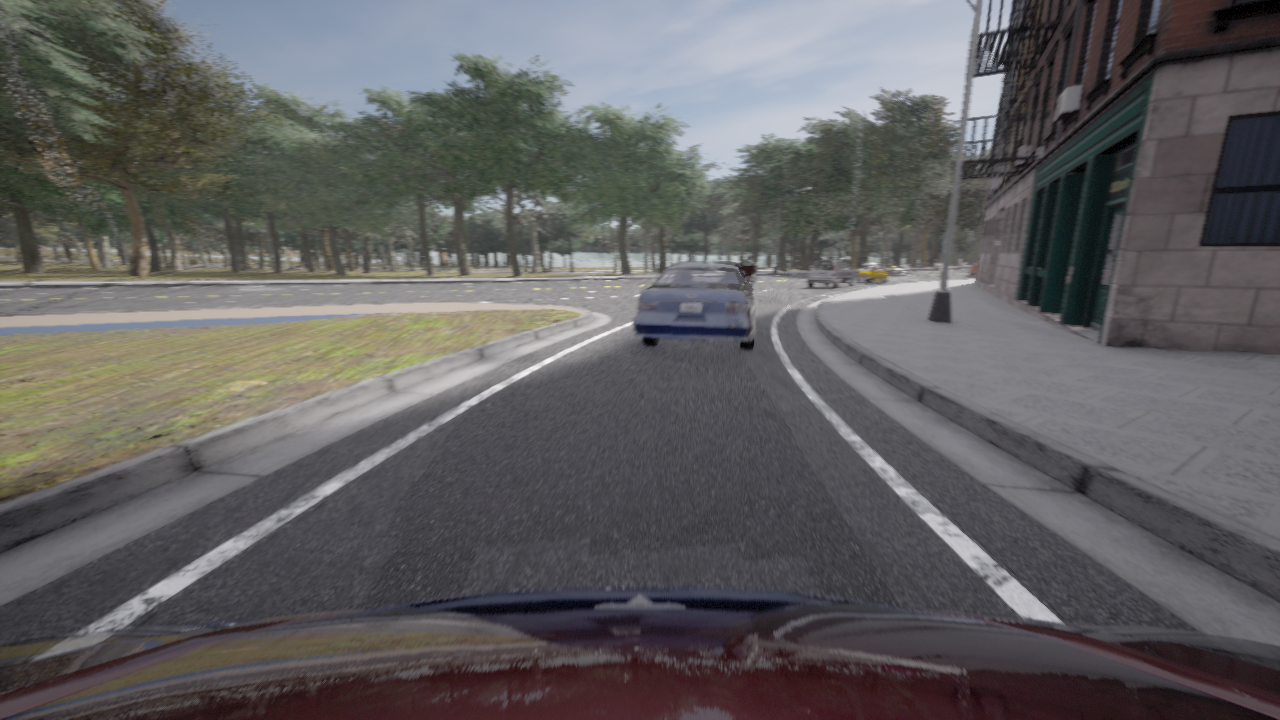cyclist: (0, 588, 1279, 719), (633, 262, 760, 350), (806, 260, 855, 288), (857, 263, 886, 283), (970, 261, 977, 276)
